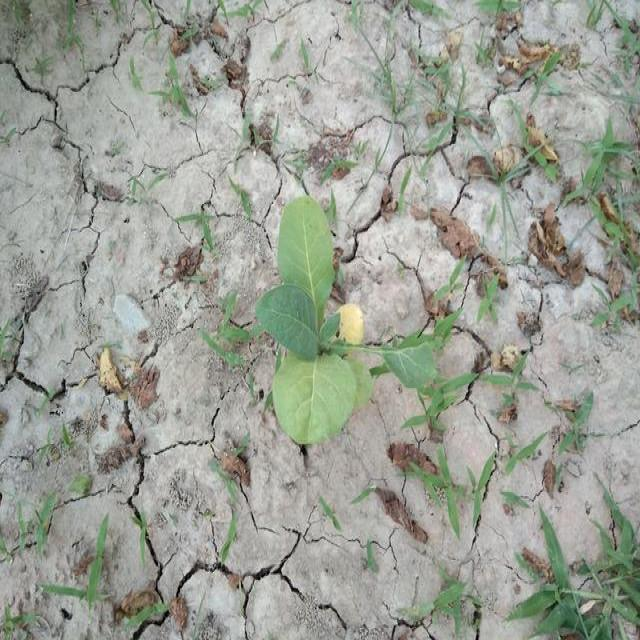crop: (260, 180, 436, 439)
